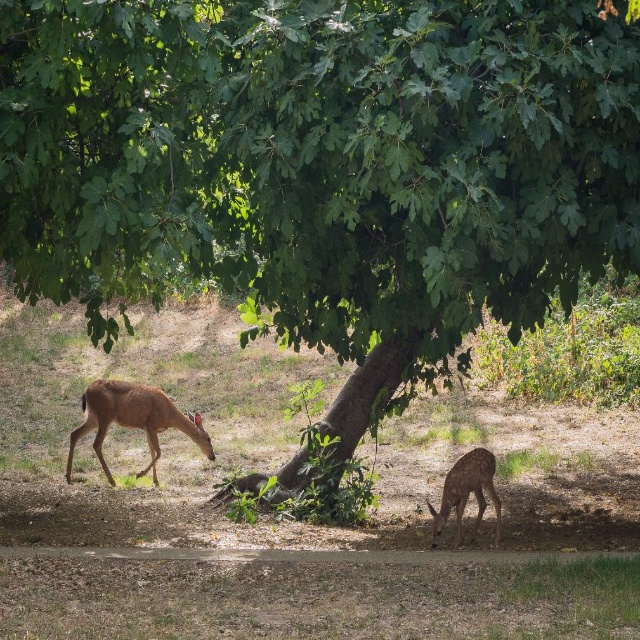Deer: (63, 379, 215, 483), (429, 445, 502, 545)
